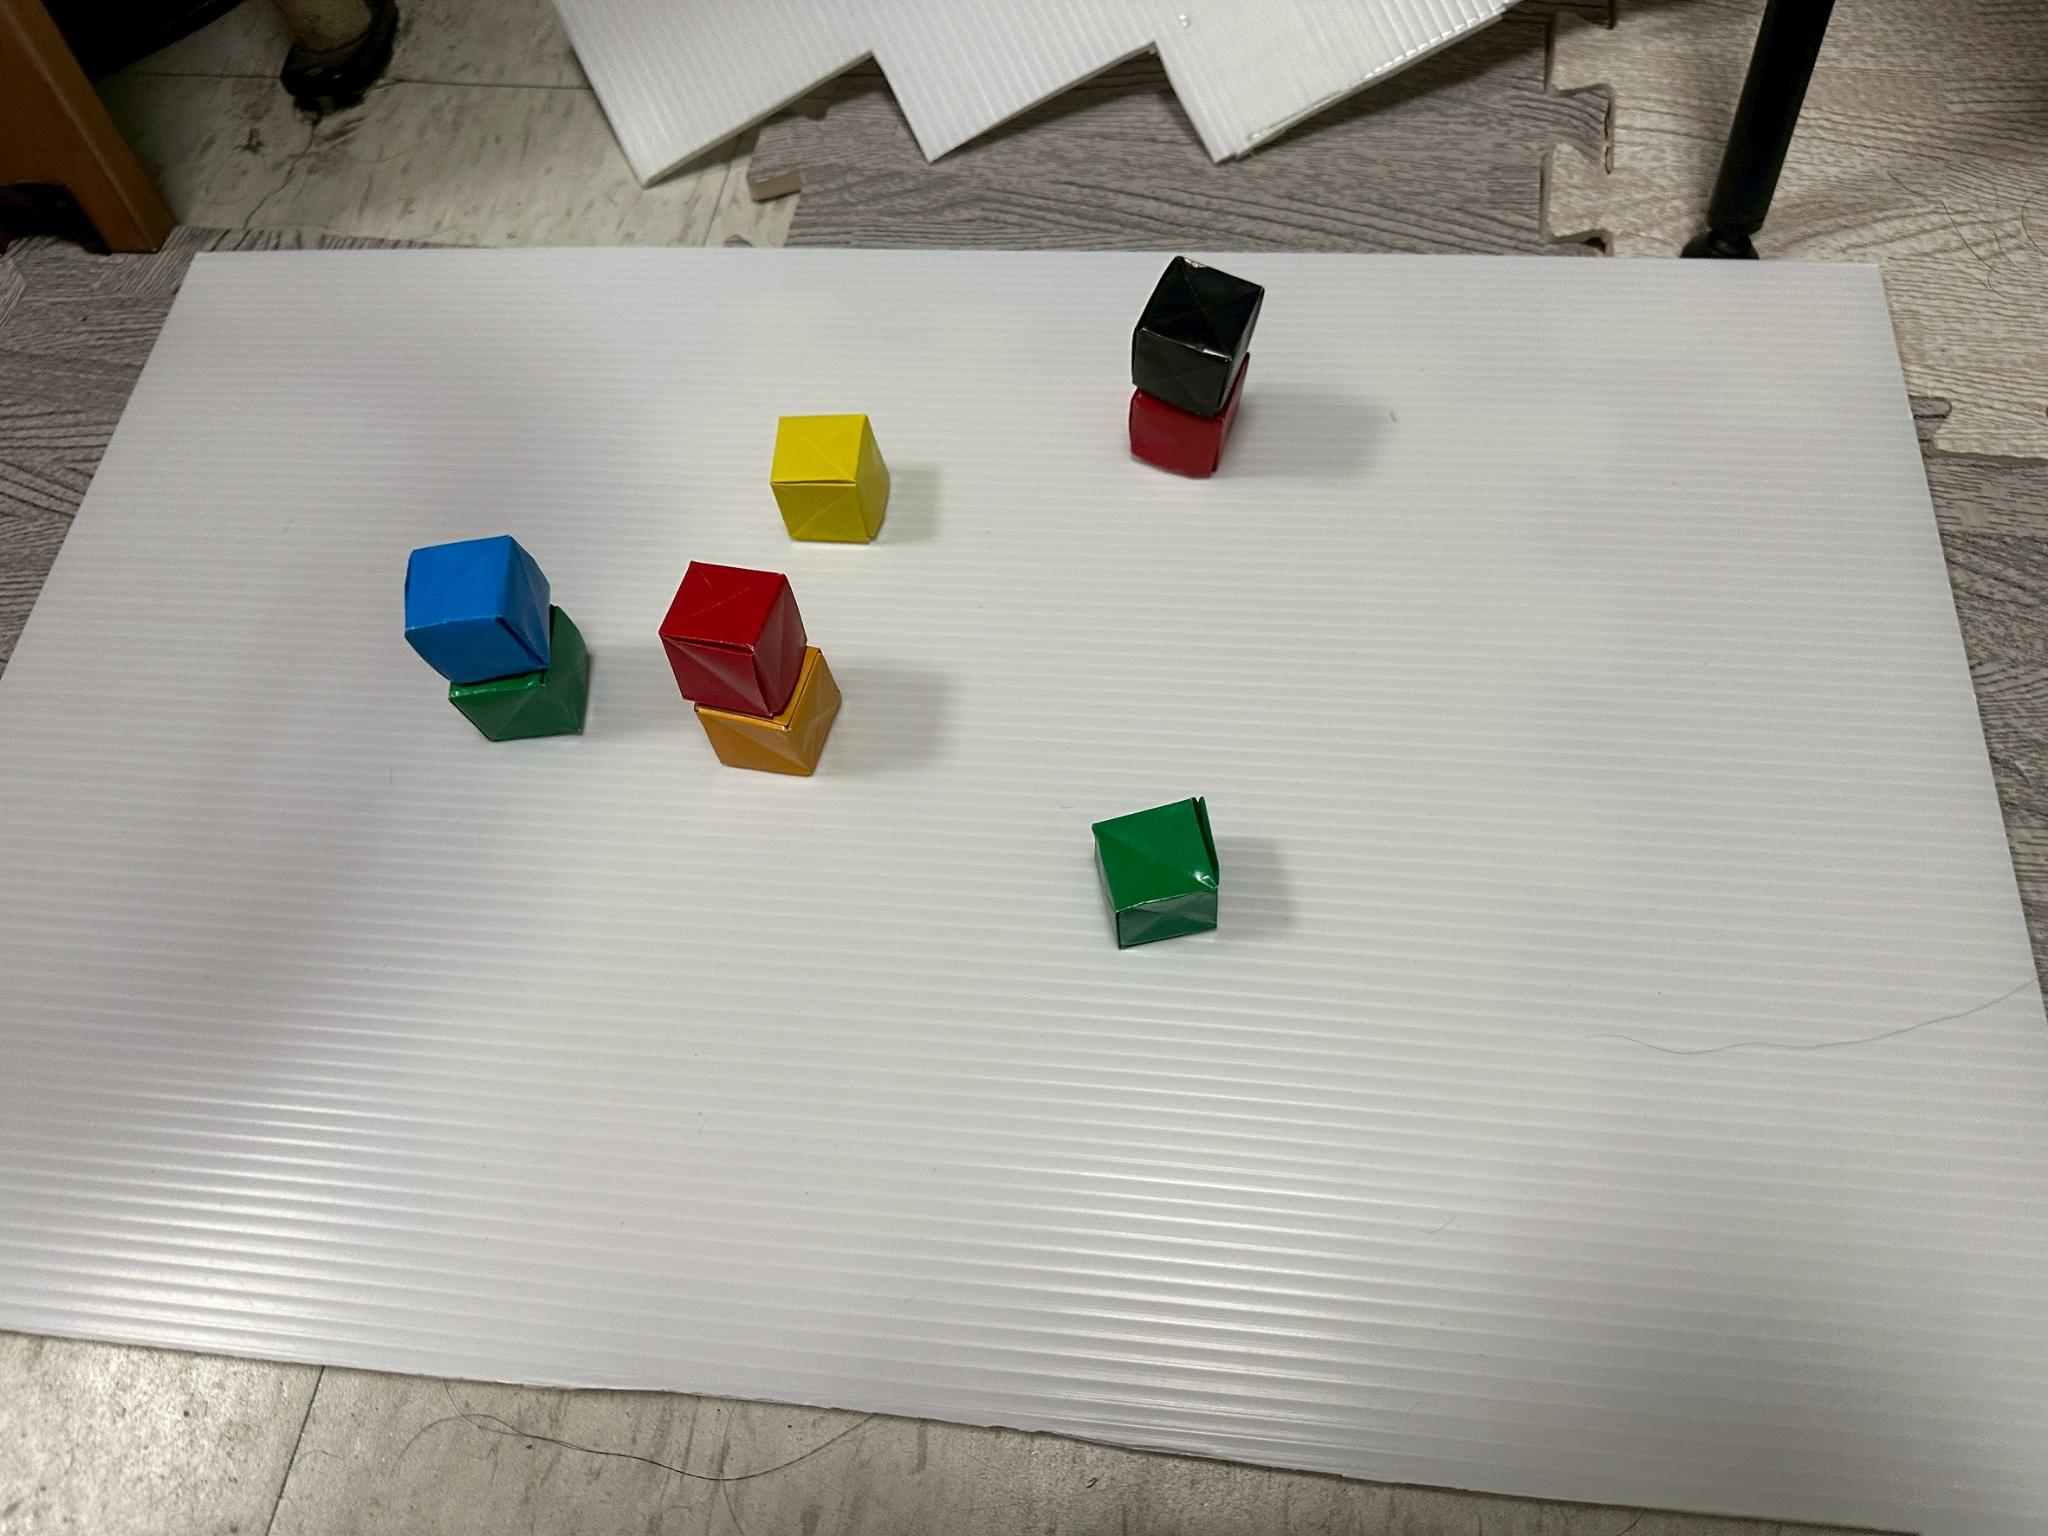base: (660, 561, 806, 718), (403, 536, 548, 684), (1132, 257, 1263, 416), (448, 607, 590, 741), (697, 647, 840, 776), (771, 416, 889, 542), (1127, 381, 1242, 478)
